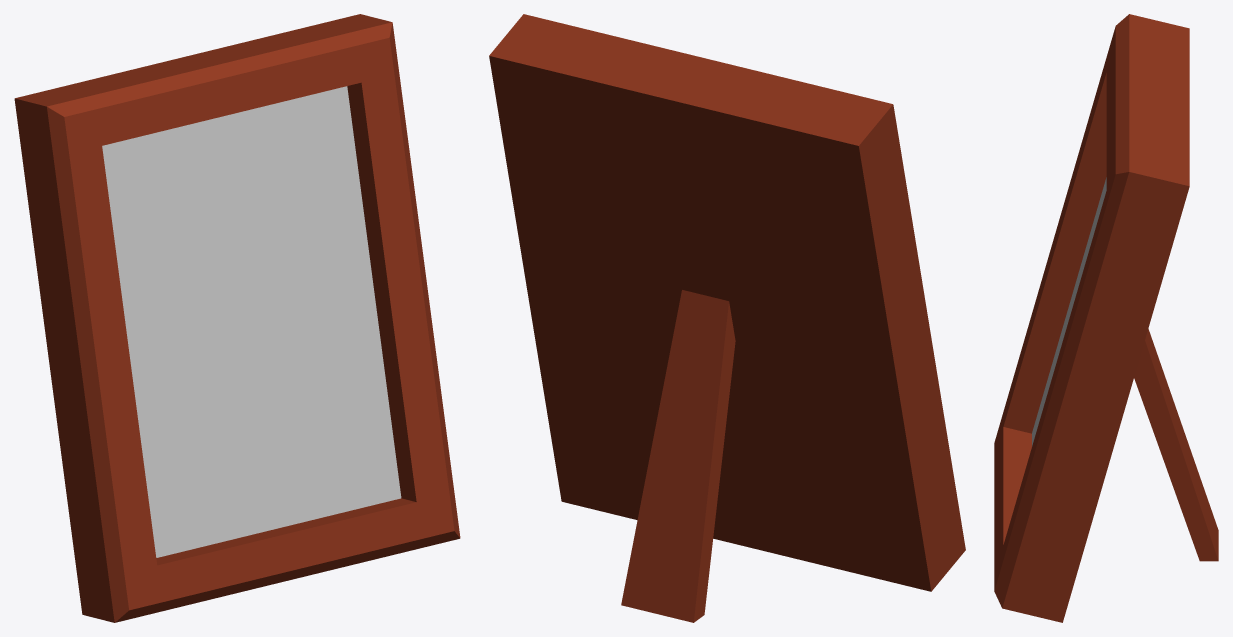
File: foto_frame.obj
3 renders of one model, left to right at view 1: azimuth 30°, elevation 25°; view 2: azimuth 150°, elevation 25°; view 3: azimuth 270°, elevation 25°, orthographic. The views are drawn at different scales.
Parts seen in each view (by area): view 1: Cube; view 2: Cube; view 3: Cube.
Boxes of the visible parts, <box> form: Cube: <box>14,14,460,622</box>; Cube: <box>489,14,965,622</box>; Cube: <box>994,14,1218,622</box>.
Size of the model in its own units: 1.5 by 2.01 by 0.9003.
